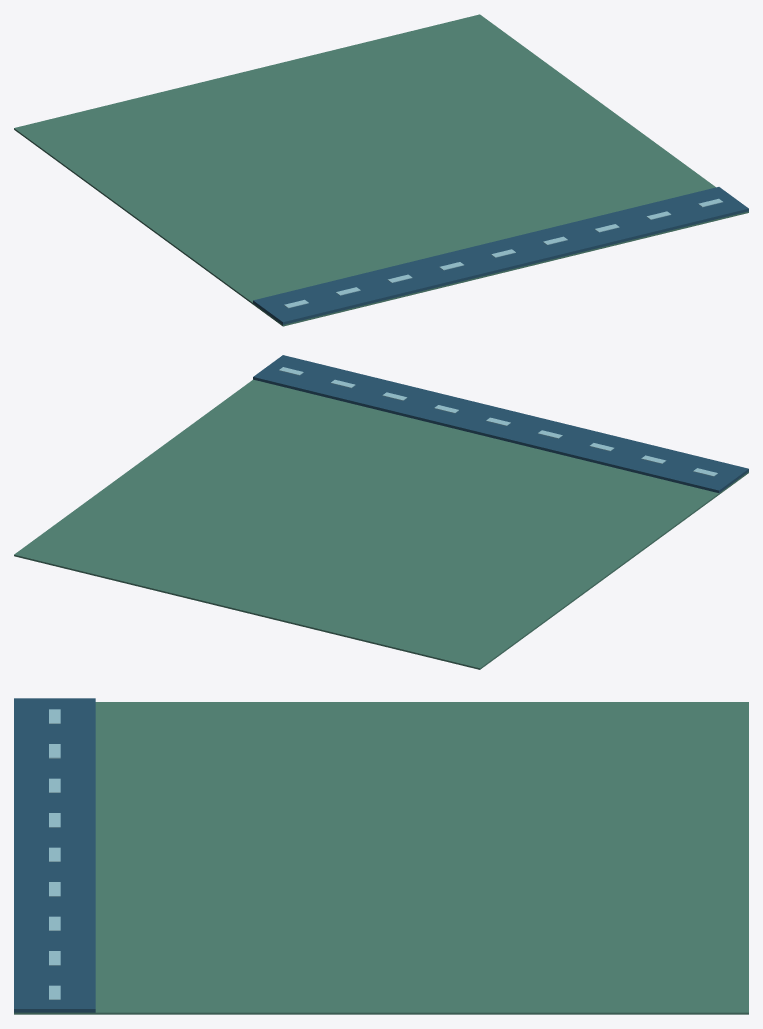
File: stage_00.glb
3 views of the same model, one above another, from view 1: azimuth 30°, elevation 25°; view 2: azimuth 150°, elevation 25°; view 3: azimuth 270°, elevation 25° (orthographic). The views are drawn at different scales.
Visible parts, largest first — view 1: geometry_0; view 2: geometry_0; view 3: geometry_0.
Part boxes in pixels (left/top/right/bottom): geometry_0: left=14, top=14, right=748, bottom=326; geometry_0: left=14, top=355, right=748, bottom=669; geometry_0: left=14, top=698, right=748, bottom=1014.
Bounding box in the file's own units: 9 × 0.091 × 9.
